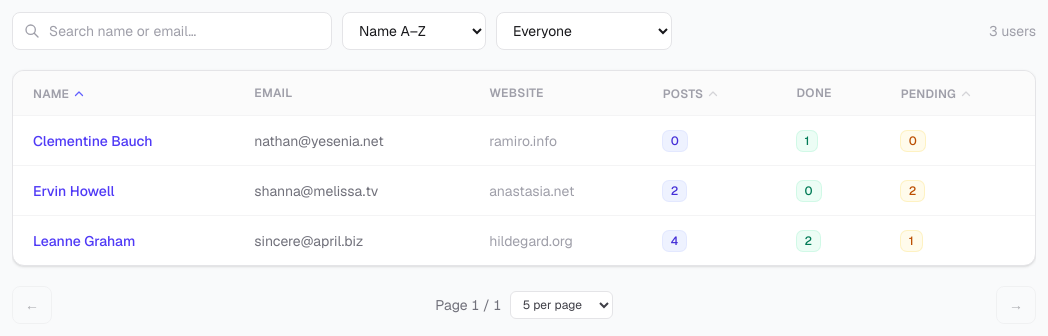
Test: UsersClient › Filter preset › shows only users with pending todos when filter is active
Step 1. Select "Has open todos" in the dropdown named "filter list" → (584, 31), box 496,12 -> 672,50
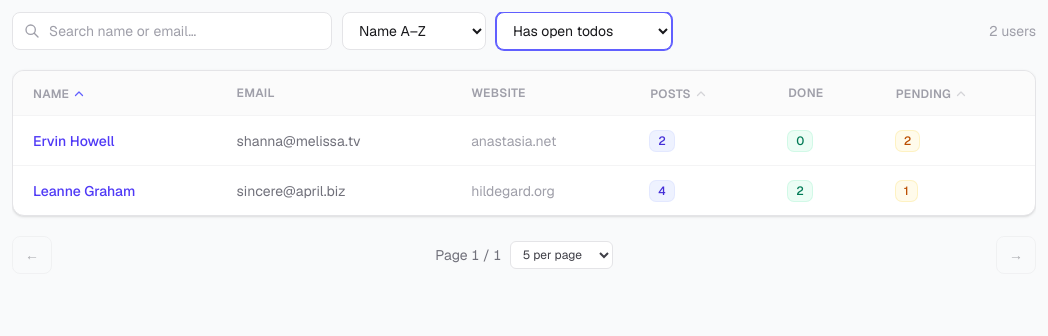
Expected: the link "Leanne Graham" is shown, 33,182 -> 135,200
Now no links "Clementine Bauch" are shown
